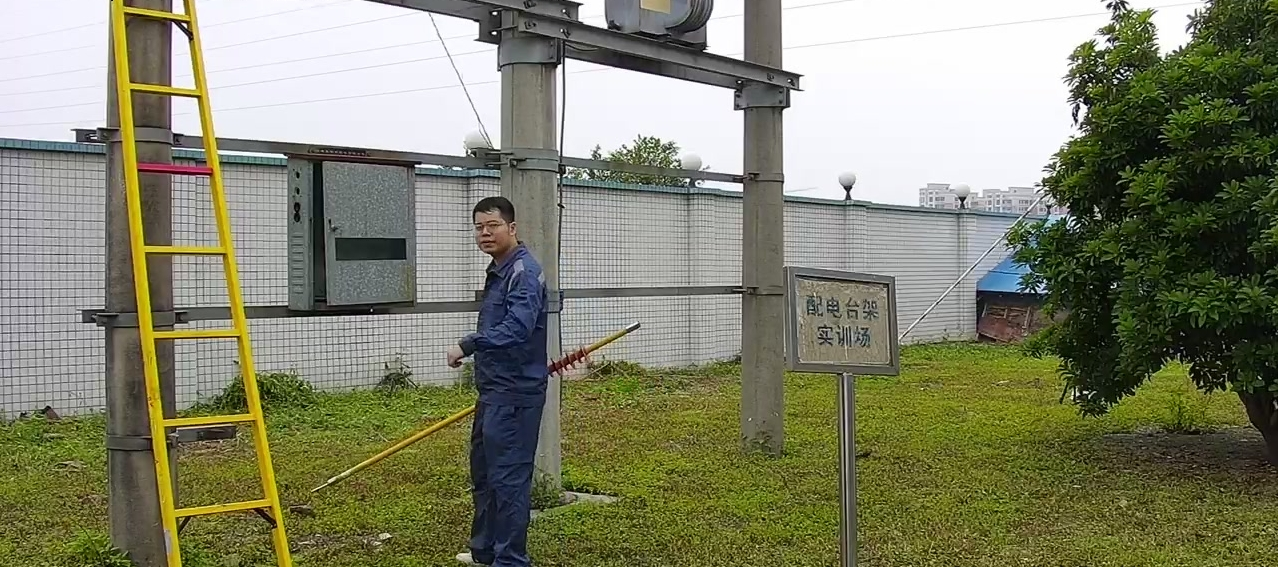未带安全帽的工作人员: (444, 194, 550, 566)
